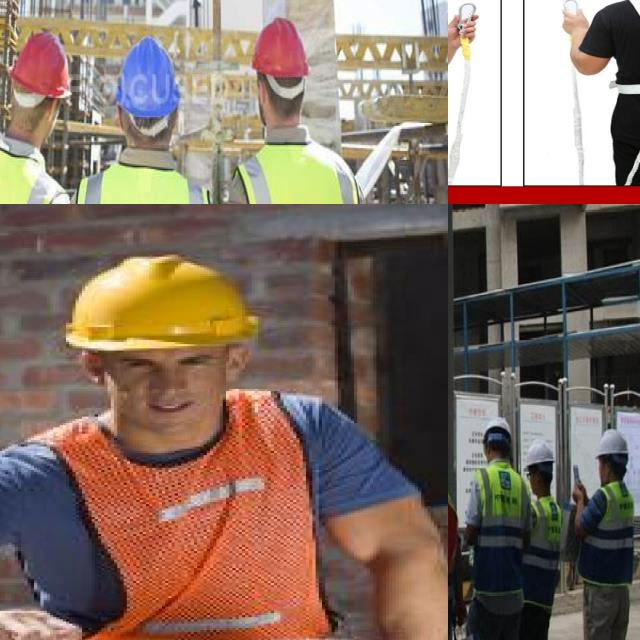Harness: (616, 0, 640, 101)
No_Ear-Protection: (76, 349, 108, 384), (225, 347, 249, 383), (256, 76, 267, 106)
No_Glasses: (114, 351, 222, 372)
face_nomask: (108, 381, 224, 434)
hand_noglove: (0, 610, 82, 640), (569, 479, 591, 512)
head_helmet: (50, 252, 269, 356), (114, 34, 178, 120), (6, 27, 74, 101), (247, 12, 310, 79), (592, 428, 630, 458), (482, 416, 514, 451), (523, 438, 557, 469)
person: (232, 6, 367, 204), (104, 38, 197, 204), (575, 423, 640, 640), (467, 412, 527, 640), (0, 13, 65, 204), (520, 439, 563, 640)
vest: (478, 462, 530, 595), (577, 484, 638, 593), (240, 152, 361, 204), (79, 167, 207, 204), (526, 496, 564, 601)
